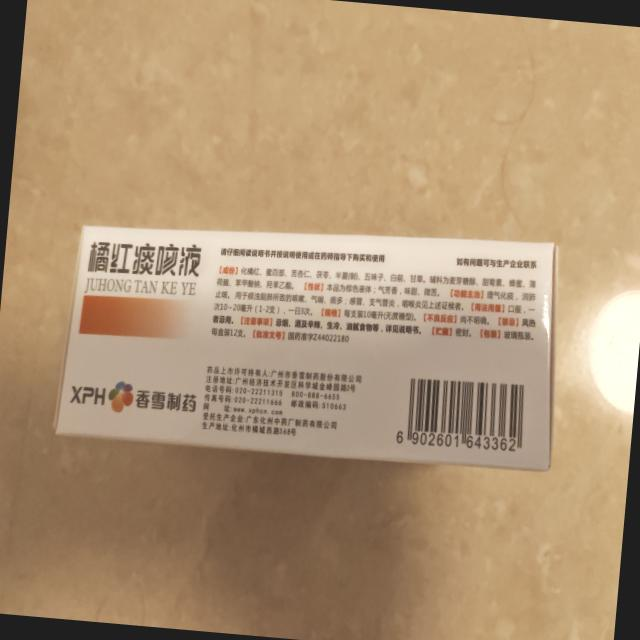box: (42, 188, 579, 487)
